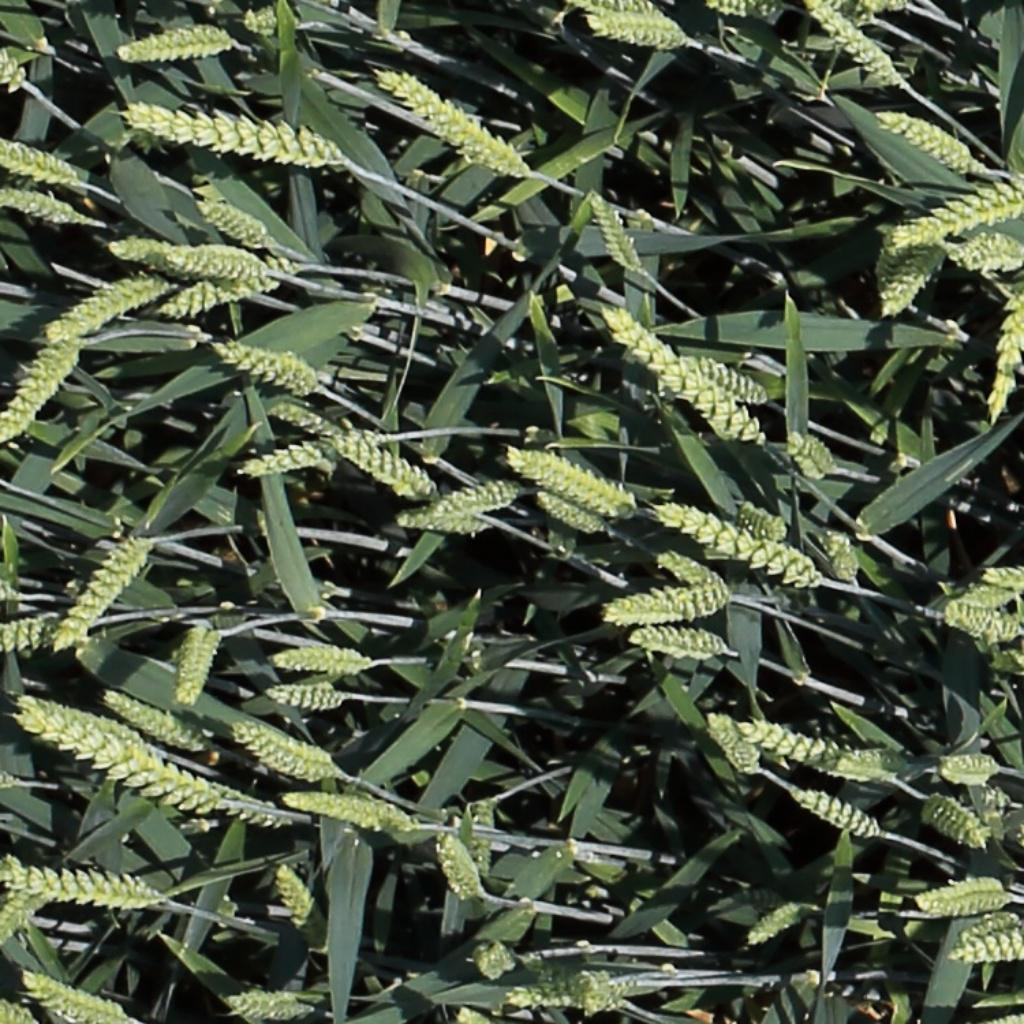0-0: (18, 698, 215, 818), (111, 95, 350, 176), (646, 496, 827, 593), (622, 324, 765, 443), (377, 66, 525, 177), (879, 170, 1024, 254), (55, 532, 152, 647), (0, 326, 83, 454), (502, 446, 637, 516), (161, 259, 293, 329), (47, 272, 186, 338), (222, 427, 404, 477), (745, 722, 894, 780), (231, 717, 354, 785), (324, 425, 436, 498), (809, 1, 903, 86), (867, 108, 995, 170), (178, 777, 306, 838), (599, 577, 738, 632), (20, 965, 147, 1024), (9, 863, 160, 910), (674, 370, 768, 445), (214, 338, 324, 401), (110, 241, 282, 279), (103, 692, 207, 752), (606, 304, 689, 379), (115, 16, 232, 67), (584, 184, 647, 277), (258, 393, 373, 443), (283, 789, 415, 832), (986, 283, 1024, 426), (909, 875, 1014, 922), (880, 238, 943, 316), (939, 598, 1024, 652), (793, 789, 884, 839), (0, 124, 77, 181), (705, 708, 765, 779), (176, 621, 223, 709), (584, 7, 689, 46), (681, 356, 772, 401), (263, 644, 378, 679), (393, 503, 501, 539), (435, 828, 484, 906), (221, 988, 328, 1023), (270, 860, 318, 936), (427, 479, 522, 516), (197, 196, 270, 244), (922, 797, 988, 850), (496, 989, 629, 1015), (942, 229, 1024, 271), (264, 677, 348, 716), (659, 551, 730, 596), (237, 4, 321, 41), (0, 187, 88, 222), (536, 490, 606, 533), (951, 911, 1024, 951), (786, 427, 836, 484), (822, 525, 864, 587), (630, 630, 729, 656), (0, 884, 34, 957), (939, 751, 1005, 788), (469, 796, 497, 882), (749, 902, 804, 944), (737, 499, 789, 542), (563, 0, 661, 22), (468, 940, 521, 980), (964, 779, 1014, 820), (804, 430, 845, 476), (576, 968, 638, 998), (946, 944, 1024, 967), (0, 622, 54, 655), (957, 584, 1024, 610), (980, 561, 1024, 594), (0, 850, 33, 890), (714, 0, 776, 20), (0, 994, 41, 1024), (0, 47, 23, 95), (456, 1004, 490, 1024), (0, 770, 17, 789)
